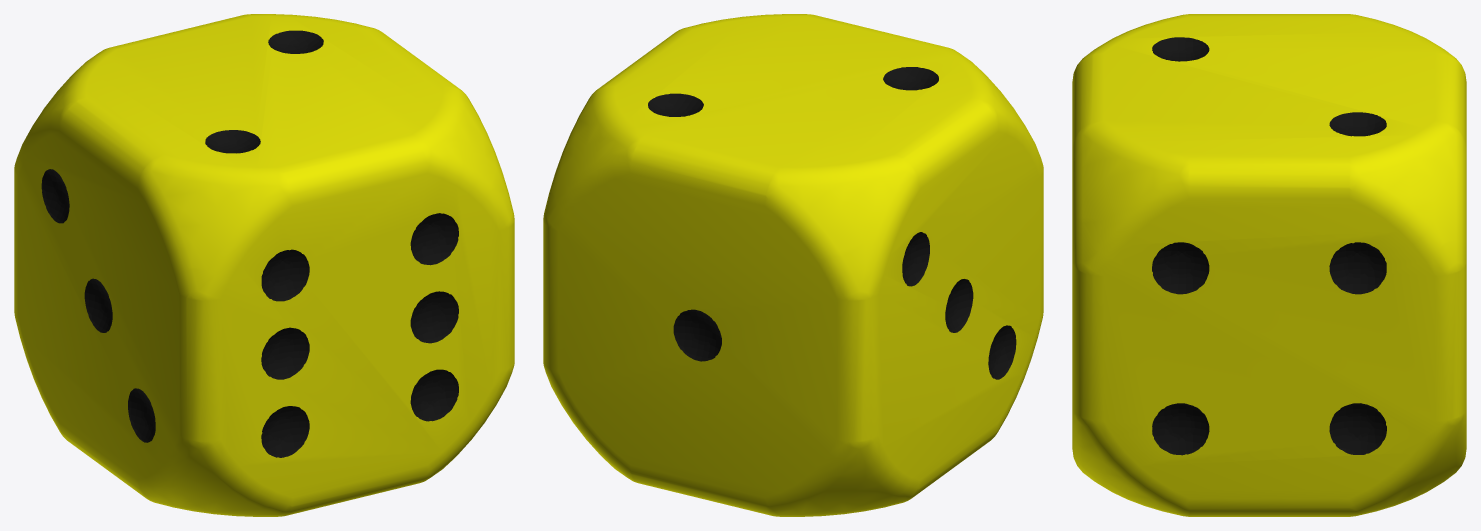
File: Die Dotted Secondary.glb
3 views of the same model, side by side, from view 1: azimuth 30°, elevation 25°; view 2: azimuth 150°, elevation 25°; view 3: azimuth 270°, elevation 25° (orthographic). The views are drawn at different scales.
Parts seen in each view (by area): view 1: Die_Body; view 2: Die_Body; view 3: Die_Body.
Part boxes in pixels (x1,y1,x2,y2): Die_Body: [14, 14, 514, 516]; Die_Body: [543, 14, 1043, 516]; Die_Body: [1072, 14, 1466, 516].
Size of the model in its own units: 1 by 1 by 1.
